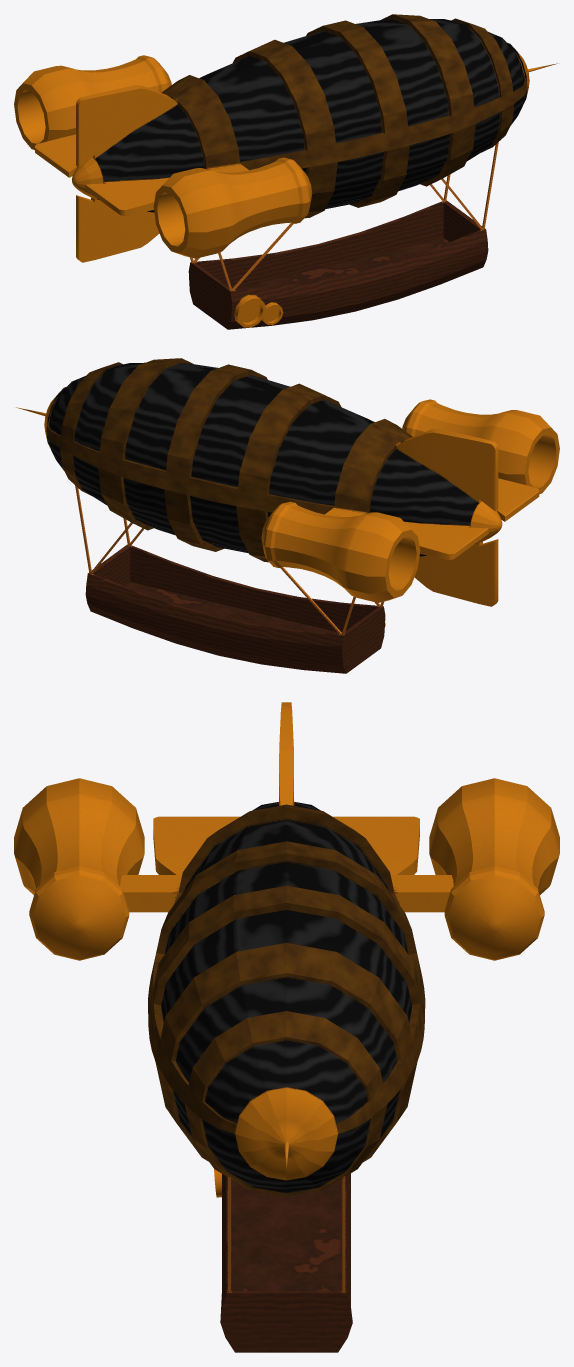
Rendered from Dirigivel.fbx.
3 views of the same model, one above another, from view 1: azimuth 30°, elevation 25°; view 2: azimuth 150°, elevation 25°; view 3: azimuth 270°, elevation 25° (orthographic). The views are drawn at different scales.
Visible parts, largest first — view 1: Dirigível; view 2: Dirigível; view 3: Dirigível.
Part boxes in pixels (left/top/right/bottom): Dirigível: left=14, top=14, right=557, bottom=329; Dirigível: left=16, top=358, right=559, bottom=673; Dirigível: left=14, top=702, right=559, bottom=1352.
Size of the model in its own units: 2196 by 1145 by 1433.
